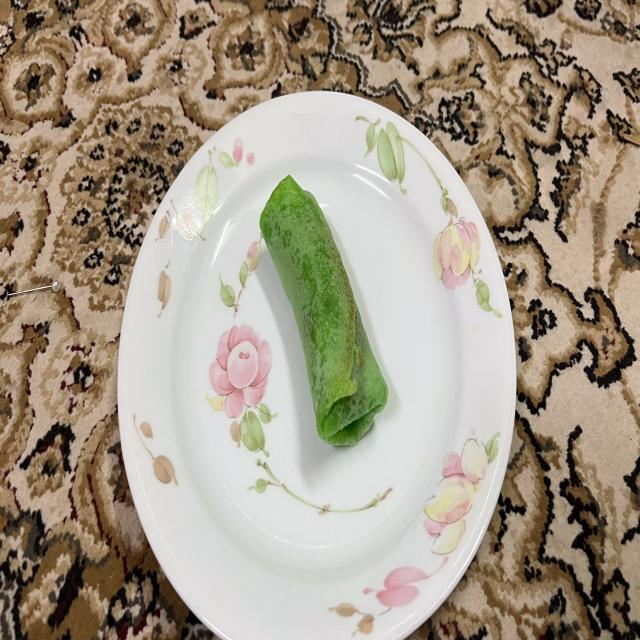Kuih-Ketayap: (260, 176, 388, 447)
